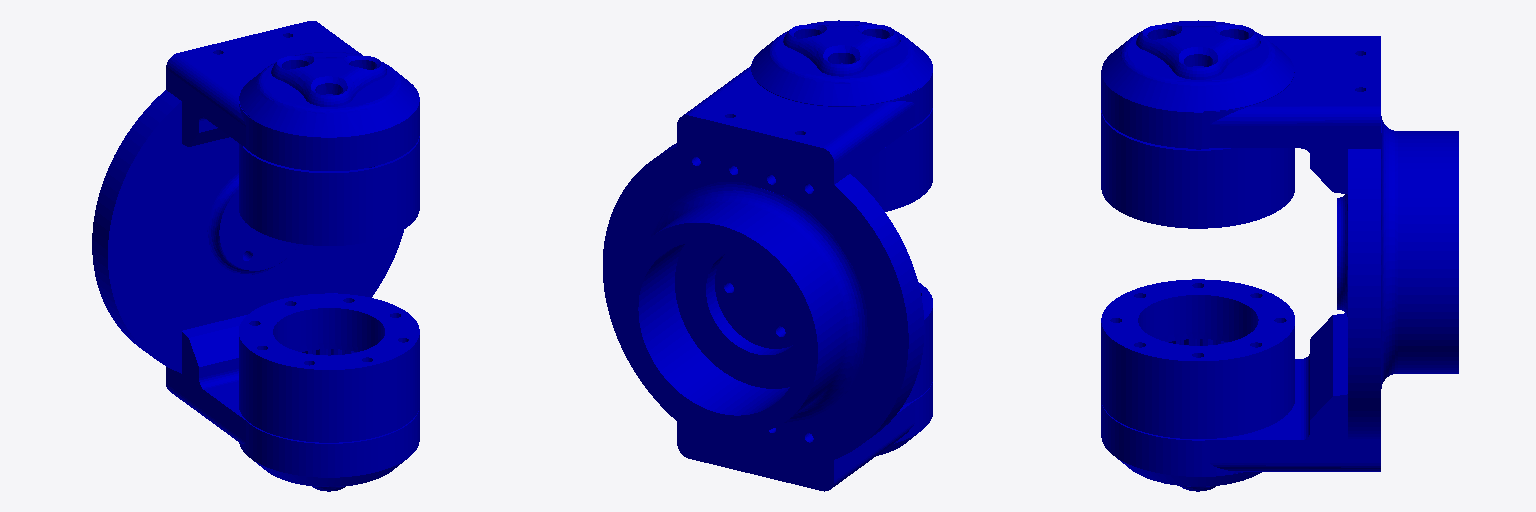
robot.urdf — robot_4axes:
<?xml version="1.0" encoding="utf-8"?>
<robot name="robot_4axes">

  <material name="blue"><color rgba="0.0 0.0 0.8 1.0"/></material>
  <material name="white"><color rgba="1.0 1.0 1.0 1.0"/></material>
  <material name="grey"><color rgba="0.3 0.3 0.3 1.0"/></material>
  <material name="red"><color rgba="0.8 0.0 0.0 1.0"/></material>





  <link name="base_link">
    <visual>
      <geometry>
      
    
      </geometry>
        <origin xyz="0 0 0" rpy="0 0 0"/>
      <material name="grey"/>
    </visual>
  </link>

  <joint name="waist_joint" type="revolute">
    <parent link="base_link"/>
    <child link="link_1"/>
    <origin xyz="0 0 0.025" rpy="0 0 0"/>
    <axis xyz="0 0 1"/>
    <limit lower="-3.1416" upper="3.1416" effort="150.0" velocity="1.0"/>
  </joint>

  <link name="link_1">
    <visual>
      <origin xyz="0 0 0.05"/>
      <geometry>
      <mesh filename="../meshes/ok.stl" scale="0.001 0.001 0.001"/>
      </geometry>
      <material name="blue"/>
    </visual>
  </link>




</robot>

--- What the picture shows (computed from the rendered views, not written in the file) ---
3 views of the same robot in one strip: view 1: azimuth 30°, elevation 25°; view 2: azimuth 150°, elevation 25°; view 3: azimuth 270°, elevation 25° (orthographic).
Robot: robot_4axes — 2 links, 1 joints (1 revolute); root link base_link; default pose: all joints at 0.
Visible links, largest first — view 1: link_1; view 2: link_1; view 3: link_1.
Boxes of the visible links, bbox=[...] form: link_1: bbox=[92, 21, 419, 491]; link_1: bbox=[603, 20, 932, 491]; link_1: bbox=[1101, 20, 1458, 491].
Size in the robot's own frame: 0.1004 by 0.0957 by 0.1276 metres.
1 mesh visuals loaded from 1 distinct referenced files (1 binary STL).
